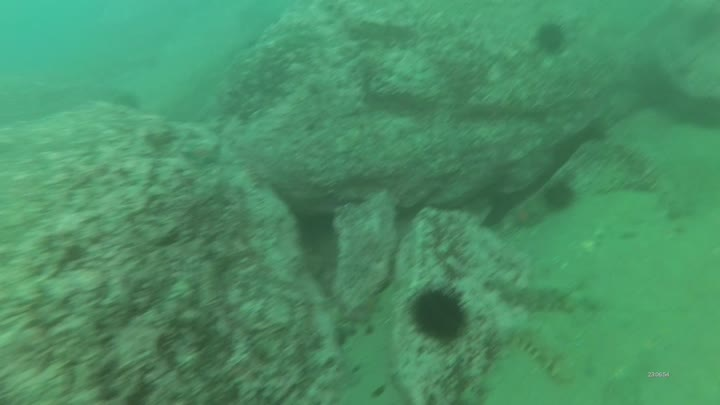echinus: (411, 286, 471, 342), (532, 21, 569, 53), (542, 180, 580, 209)
holothurian: (496, 278, 601, 316), (508, 331, 575, 383)
starfish: (182, 137, 224, 169)
